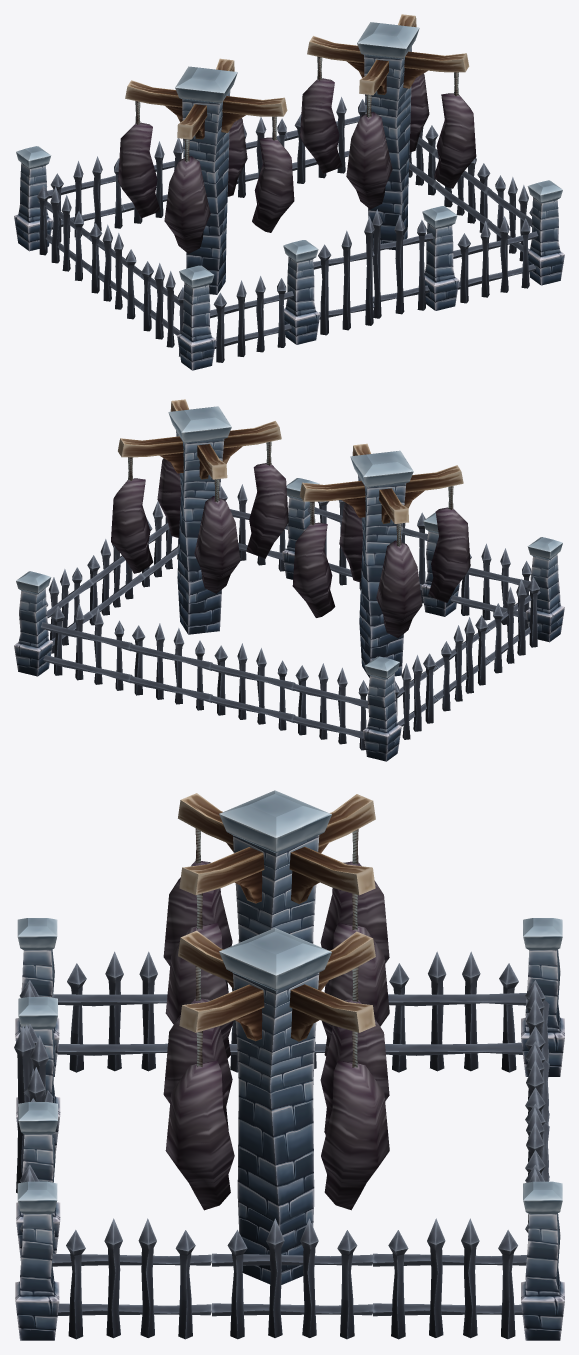
Rendered from Vampire_Village_Interior_04.FBX.
3 views of the same model, one above another, from view 1: azimuth 30°, elevation 25°; view 2: azimuth 150°, elevation 25°; view 3: azimuth 270°, elevation 25° (orthographic). The views are drawn at different scales.
Visible parts, largest first — view 1: Vampire_Village_Interior_04; view 2: Vampire_Village_Interior_04; view 3: Vampire_Village_Interior_04.
Boxes of the visible parts, x1,y1,x2,y2 form: Vampire_Village_Interior_04: [14, 14, 564, 370]; Vampire_Village_Interior_04: [14, 399, 564, 761]; Vampire_Village_Interior_04: [14, 790, 564, 1340].
Bounding box in the file's own units: 744 × 405 × 613.
